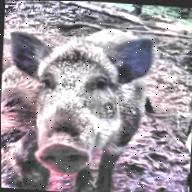boar: (0, 12, 150, 183)
